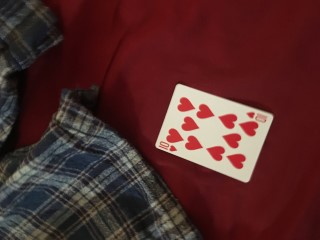TenOfHearts: (155, 84, 274, 183)
